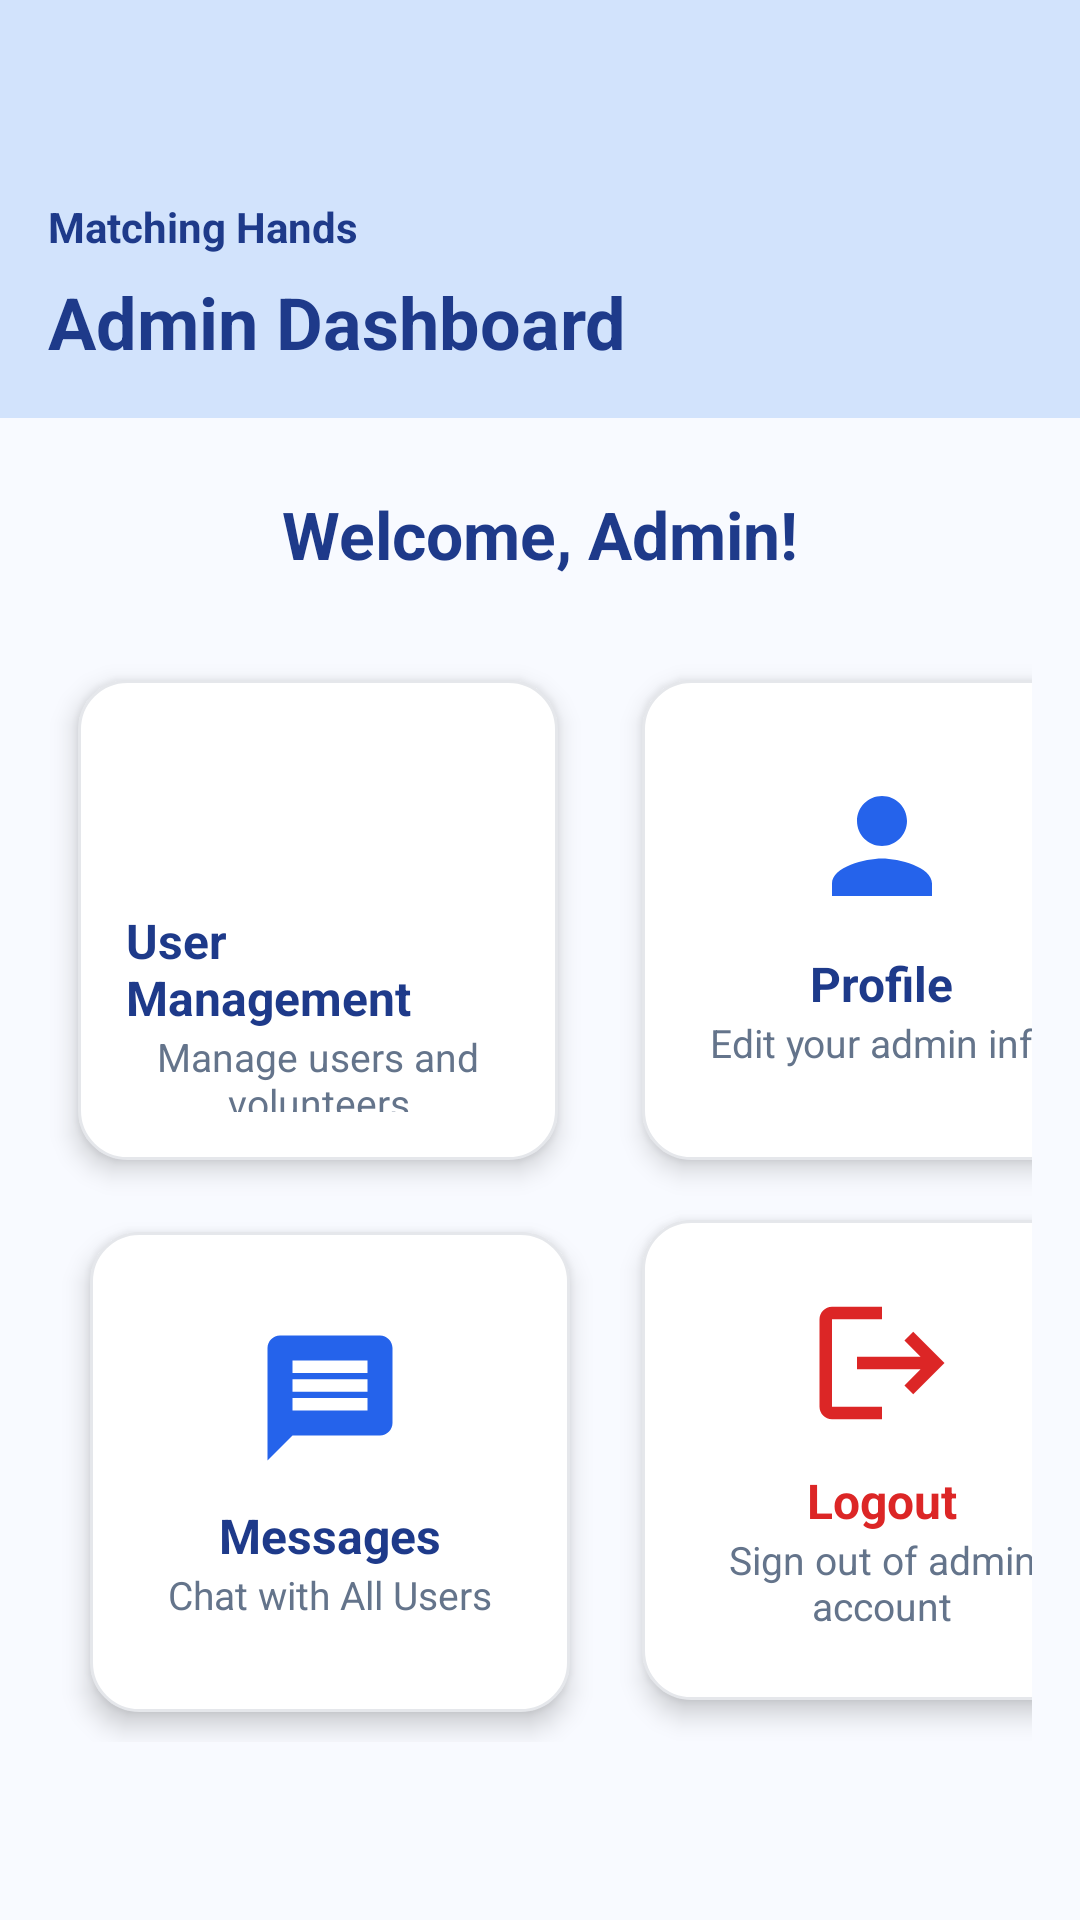

Point at icon controls on the screen. Image size 1080 × 1920, points as (x=x, y=y).
person: (x=882, y=846)
